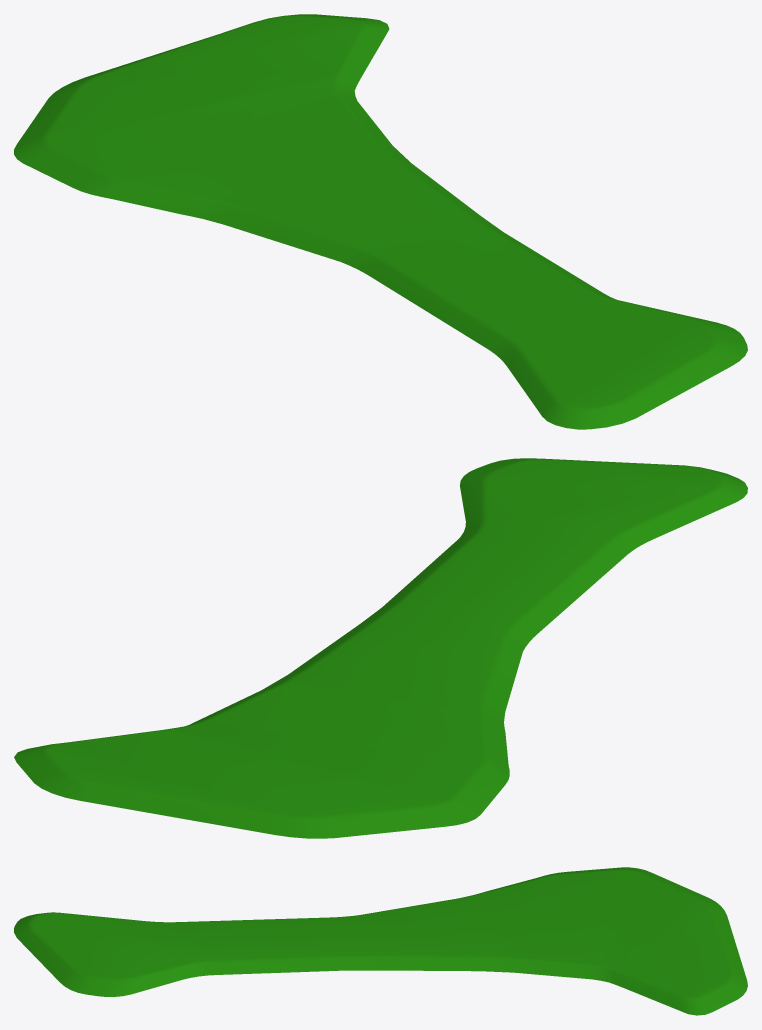
The model's file is GroundPadding05_1.fbx.
3 renders of one model, top to bottom at view 1: azimuth 30°, elevation 25°; view 2: azimuth 150°, elevation 25°; view 3: azimuth 270°, elevation 25°, orthographic. The views are drawn at different scales.
Visible parts, largest first — view 1: LOD0; view 2: LOD0; view 3: LOD0.
Part boxes in pixels (x1,y1,x2,y2): LOD0: (14, 14, 747, 429); LOD0: (14, 458, 747, 838); LOD0: (14, 867, 747, 1015).
Size of what is drawn, in the model's own units: 863 by 1806 by 20.61.
